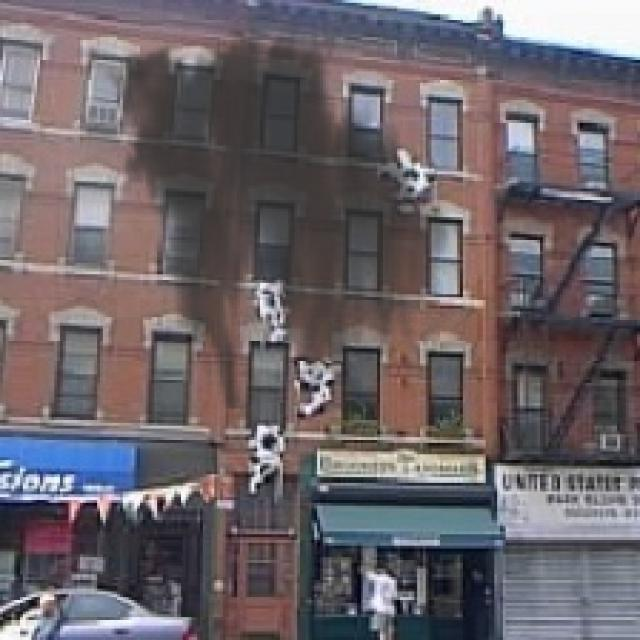Smoke: (97, 11, 460, 408)
